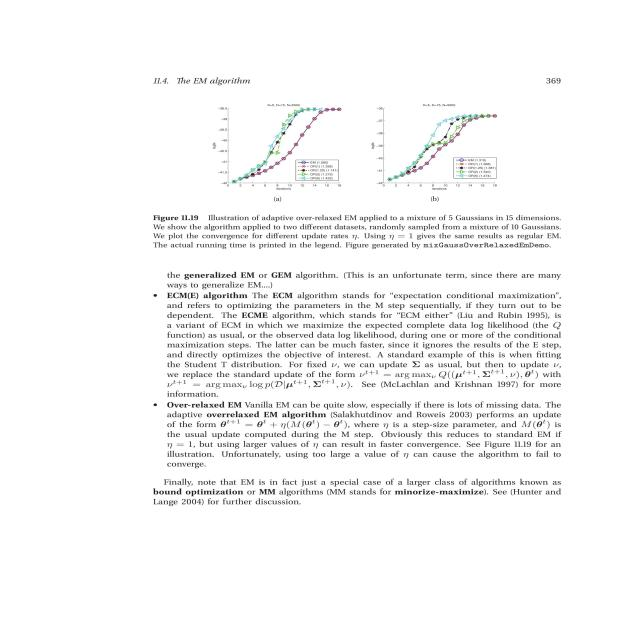diagram: (119, 65, 595, 256)
